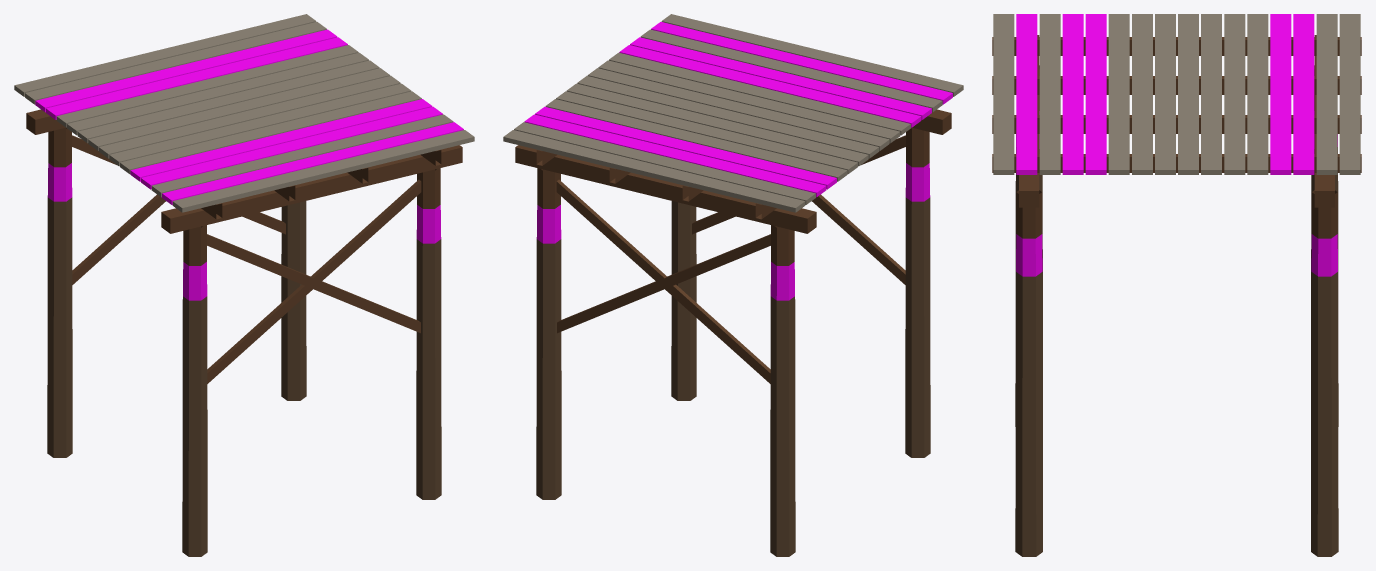
The model's file is prop_pier_deck.glb.
3 views of the same model, side by side, from view 1: azimuth 30°, elevation 25°; view 2: azimuth 150°, elevation 25°; view 3: azimuth 270°, elevation 25° (orthographic). The views are drawn at different scales.
Visible parts, largest first — view 1: prop_pier_deck__mesh; view 2: prop_pier_deck__mesh; view 3: prop_pier_deck__mesh.
Part boxes in pixels (<box>): prop_pier_deck__mesh: <box>14,14,474,556</box>; prop_pier_deck__mesh: <box>503,14,963,556</box>; prop_pier_deck__mesh: <box>992,14,1361,556</box>.
Size of the model in its own units: 4 by 4.75 by 4.
1 material, 1 textured.
